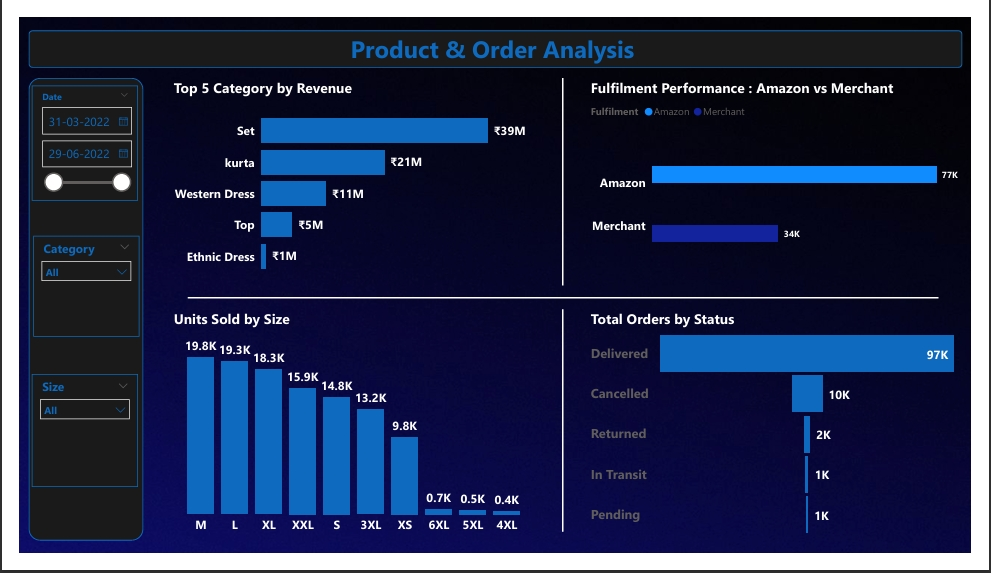

The dashboard page shown, as its layout file describes it:
{"tool":"powerbi","page":{"name":"Product & Order Analysis","canvas":[1280,720],"ordinal":1},"visuals":[{"type":"barChart","title":"Top 5 Category by Revenue","fields":{"Y":["_Measures.Total Revenue"],"Category":["ecommerce_cleaned.Category"]},"box":[201.6,80.6,495.4,279.4],"z":0},{"type":"funnel","title":"Total Orders by Status","fields":{"Category":["ecommerce_cleaned.Grouped Status"],"Y":["_Measures.Total Orders"]},"box":[763.2,391.7,504,311],"z":1000},{"type":"clusteredColumnChart","title":"Units Sold by Size","fields":{"Y":["_Measures.Total Units Sold"],"Category":["ecommerce_cleaned.Size"]},"box":[201.6,391.7,495.4,311],"z":2000},{"type":"clusteredBarChart","title":"Fulfilment Performance : Amazon vs Merchant","fields":{"Category":["ecommerce_cleaned.Fulfilment"],"Series":["ecommerce_cleaned.Fulfilment"],"Y":["_Measures.Total Orders"]},"box":[763.2,80.6,504,280.8],"z":3000},{"type":"shape","box":[11.5,17.3,1255.7,50.4],"z":4000,"group":"g2"},{"type":"textbox","box":[430.5,14.4,417.6,53.3],"z":5000,"group":"g2"},{"type":"group","id":"g1","title":"Group 1","box":[11.5,80.6,152.6,622.1],"z":6000},{"type":"shape","box":[11.5,80.6,154.1,622.1],"z":6000,"group":"g1"},{"type":"slicer","fields":{"Values":["ecommerce_cleaned.Category"]},"box":[17.1,292.2,143.6,136.7],"z":7000,"group":"g1"},{"type":"shape","box":[226.1,361.4,1009.4,30.2],"z":7000},{"type":"shape","box":[708.5,80.6,44.6,279.4],"z":8000},{"type":"slicer","fields":{"Values":["ecommerce_cleaned.Size"]},"box":[15.4,478.5,143.6,152.1],"z":8000,"group":"g1"},{"type":"slicer","fields":{"Values":["Date_Table.Date"]},"box":[15.4,90.5,143.6,155.5],"z":9000,"group":"g1"},{"type":"shape","box":[708.5,391.7,44.6,299.5],"z":9000},{"type":"group","id":"g2","title":"Group 2","box":[11.5,14.4,1255.7,53.3],"z":9001}]}

Visuals, with their boxes in screenshot pixels (x1, y1, x2, y2), scaled from the page's 1280x720 canvas onto the 991x573 screenshot:
"Top 5 Category by Revenue" barChart: pyautogui.locateOnScreen(156, 64, 540, 286)
"Total Orders by Status" funnel: pyautogui.locateOnScreen(591, 312, 981, 559)
"Units Sold by Size" clusteredColumnChart: pyautogui.locateOnScreen(156, 312, 540, 559)
"Fulfilment Performance : Amazon vs Merchant" clusteredBarChart: pyautogui.locateOnScreen(591, 64, 981, 288)
shape: pyautogui.locateOnScreen(9, 14, 981, 54)
textbox: pyautogui.locateOnScreen(333, 11, 657, 54)
"Group 1" group: pyautogui.locateOnScreen(9, 64, 127, 559)
shape: pyautogui.locateOnScreen(9, 64, 128, 559)
slicer - ecommerce_cleaned.Category: pyautogui.locateOnScreen(13, 233, 124, 341)
shape: pyautogui.locateOnScreen(175, 288, 957, 312)
shape: pyautogui.locateOnScreen(549, 64, 583, 286)
slicer - ecommerce_cleaned.Size: pyautogui.locateOnScreen(12, 381, 123, 502)
slicer - Date_Table.Date: pyautogui.locateOnScreen(12, 72, 123, 196)
shape: pyautogui.locateOnScreen(549, 312, 583, 550)
"Group 2" group: pyautogui.locateOnScreen(9, 11, 981, 54)
